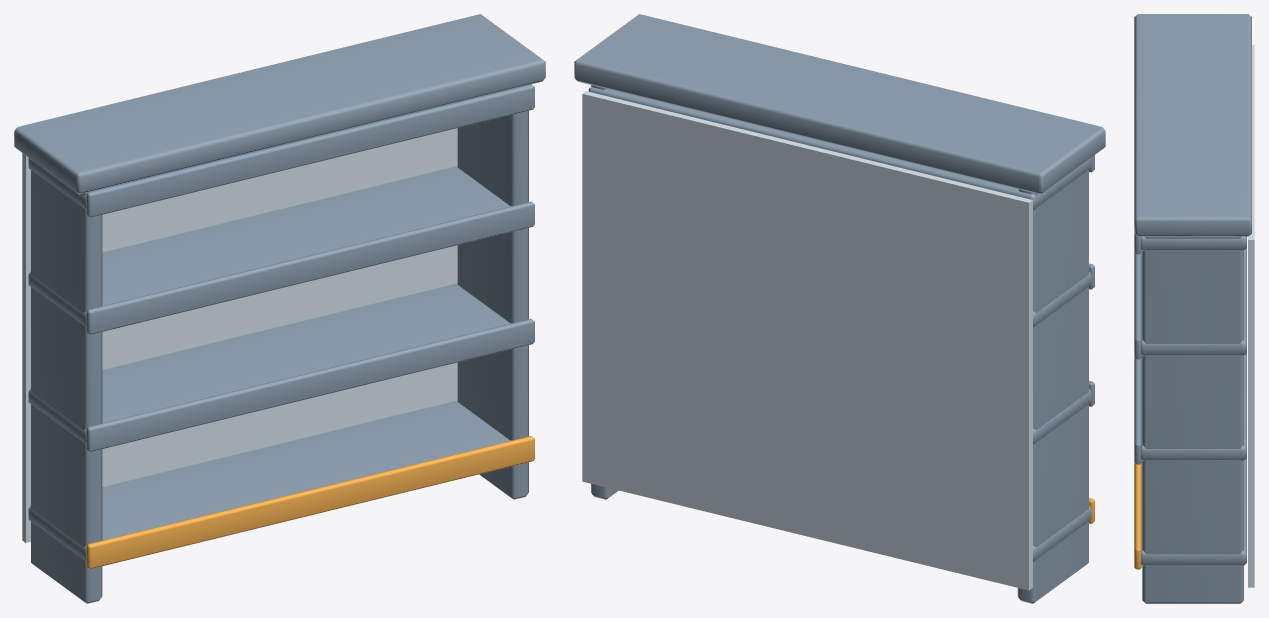
The model's file is IndustrialRack.fbx.
3 renders of one model, left to right at view 1: azimuth 30°, elevation 25°; view 2: azimuth 150°, elevation 25°; view 3: azimuth 270°, elevation 25°, orthographic. The views are drawn at different scales.
Visible parts, largest first — view 1: IndustrialRack back, IndustrialRack top, IndustrialRack upright, IndustrialRack plank.001, IndustrialRack plank.002, IndustrialRack plank, IndustrialRack upright.001, IndustrialRack shelf edge, IndustrialRack shelf edge.002, IndustrialRack shelf edge.001, IndustrialRack shelf edge.003; view 2: IndustrialRack back, IndustrialRack top, IndustrialRack upright, IndustrialRack plank.003, IndustrialRack plank.001, IndustrialRack plank.002, IndustrialRack plank; view 3: IndustrialRack upright.001, IndustrialRack top, IndustrialRack back, IndustrialRack plank, IndustrialRack plank.001, IndustrialRack plank.002, IndustrialRack plank.003, IndustrialRack shelf edge.001, IndustrialRack shelf edge.002, IndustrialRack shelf edge.
Part boxes in pixels (left/top/right/bottom): IndustrialRack back: left=22, top=128, right=457, bottom=542; IndustrialRack top: left=14, top=14, right=545, bottom=194; IndustrialRack upright: left=31, top=170, right=102, bottom=603; IndustrialRack plank.001: left=28, top=283, right=511, bottom=444; IndustrialRack plank.002: left=28, top=166, right=511, bottom=326; IndustrialRack plank: left=28, top=400, right=510, bottom=561; IndustrialRack upright.001: left=457, top=110, right=528, bottom=499; IndustrialRack shelf edge: left=86, top=436, right=534, bottom=568; IndustrialRack shelf edge.002: left=86, top=201, right=534, bottom=334; IndustrialRack shelf edge.001: left=86, top=319, right=534, bottom=451; IndustrialRack shelf edge.003: left=86, top=84, right=534, bottom=217; IndustrialRack back: left=582, top=91, right=1032, bottom=590; IndustrialRack top: left=574, top=14, right=1105, bottom=194; IndustrialRack upright: left=1017, top=170, right=1088, bottom=603; IndustrialRack plank.003: left=588, top=86, right=1091, bottom=210; IndustrialRack plank.001: left=1033, top=389, right=1091, bottom=444; IndustrialRack plank.002: left=1033, top=271, right=1091, bottom=327; IndustrialRack plank: left=1033, top=506, right=1091, bottom=561; IndustrialRack upright.001: left=1142, top=236, right=1243, bottom=603; IndustrialRack top: left=1134, top=14, right=1251, bottom=236; IndustrialRack back: left=1248, top=44, right=1254, bottom=587; IndustrialRack plank: left=1141, top=458, right=1246, bottom=566; IndustrialRack plank.001: left=1141, top=353, right=1246, bottom=461; IndustrialRack plank.002: left=1141, top=248, right=1246, bottom=356; IndustrialRack plank.003: left=1141, top=236, right=1246, bottom=250; IndustrialRack shelf edge.001: left=1134, top=358, right=1141, bottom=464; IndustrialRack shelf edge.002: left=1134, top=253, right=1141, bottom=359; IndustrialRack shelf edge: left=1134, top=463, right=1141, bottom=569.
Size of the model in its own units: 326 by 291 by 80.75.
